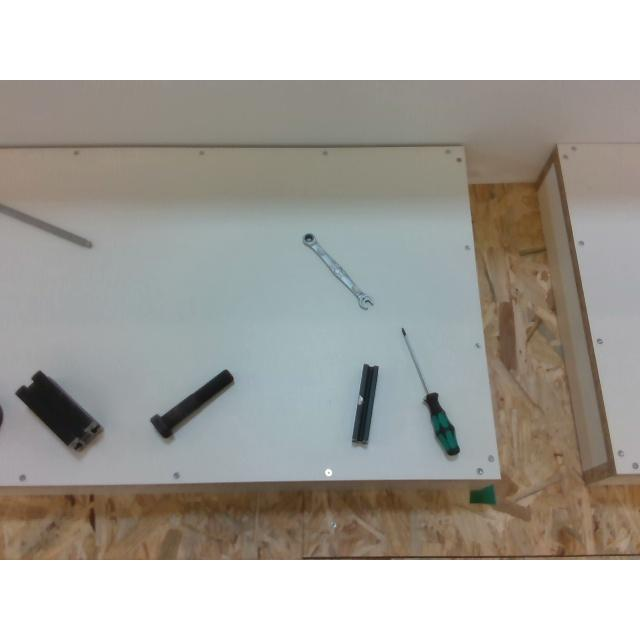AllenKey: (0, 202, 94, 250)
F20_20_B: (352, 363, 380, 445)
M20_100: (150, 369, 234, 438)
S40_40_B: (15, 370, 101, 448)
Screwdriver: (401, 327, 461, 457)
Wrench: (300, 233, 372, 307)
